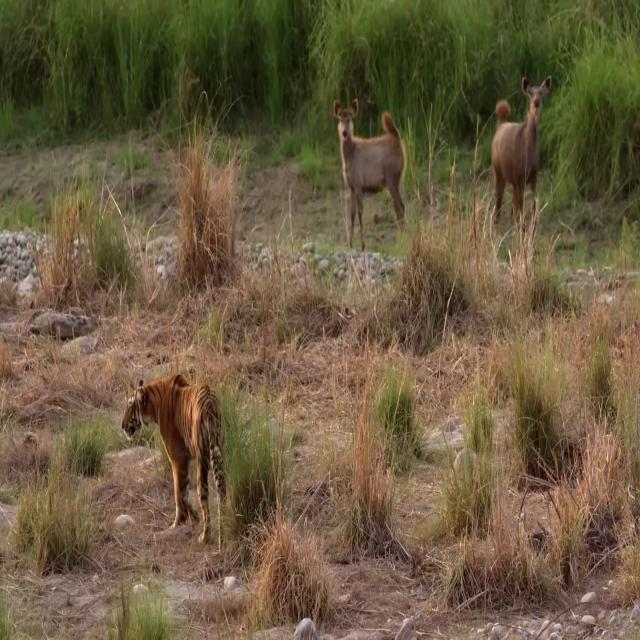tiger: (120, 373, 227, 553)
